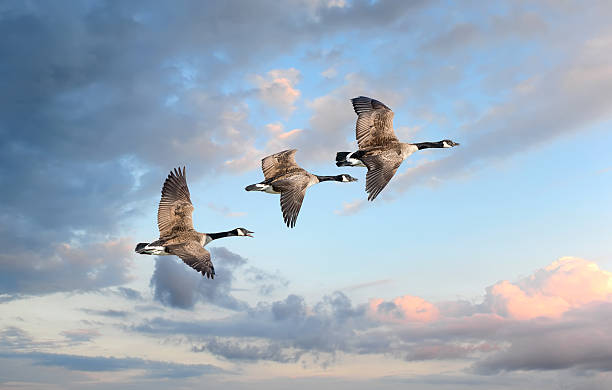goose: (130, 164, 257, 285), (330, 94, 461, 204), (240, 148, 360, 232)
